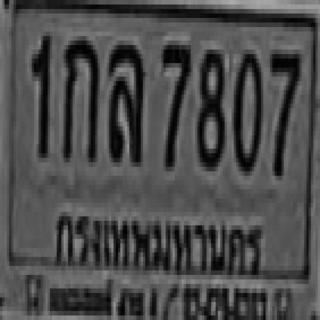A01: (61, 36, 98, 158)
A36: (107, 41, 141, 158)
N00: (232, 45, 261, 171)
N01: (31, 32, 49, 153)
N07: (268, 47, 297, 174), (161, 41, 188, 167)
N08: (195, 45, 222, 167)
P04: (47, 196, 267, 287)
